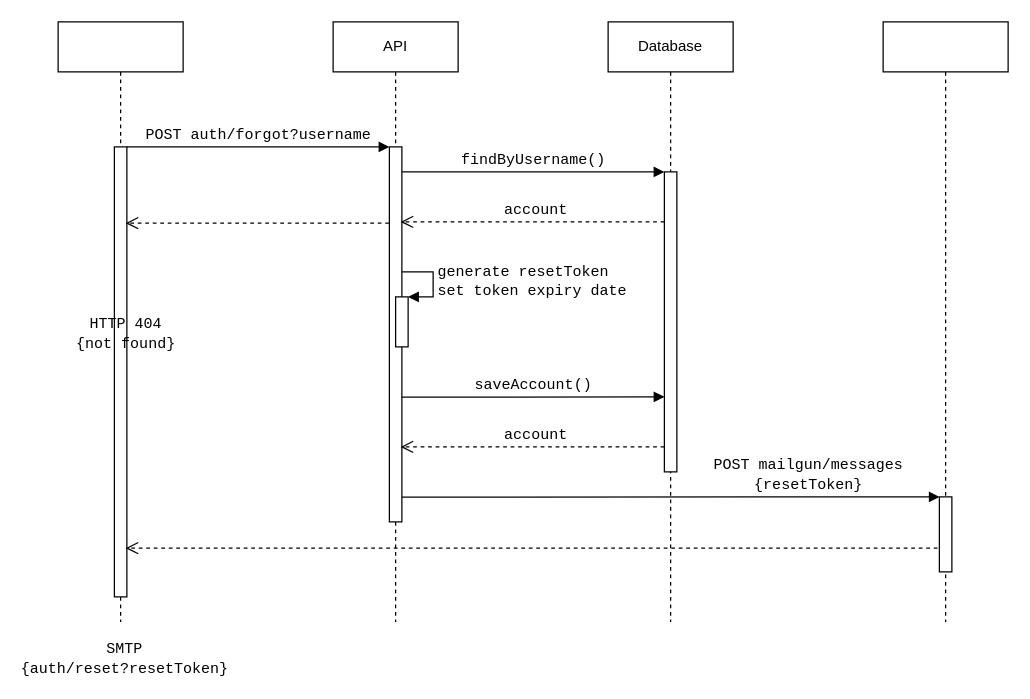
Some shapes in this 1030 by 699 pixel diagram are drawn without their labels. The box of each missing label's shape, as (x1, y1, x2, y2) in pixels:
Client: (57, 21, 183, 622)
Mailgun: (882, 21, 1008, 622)
